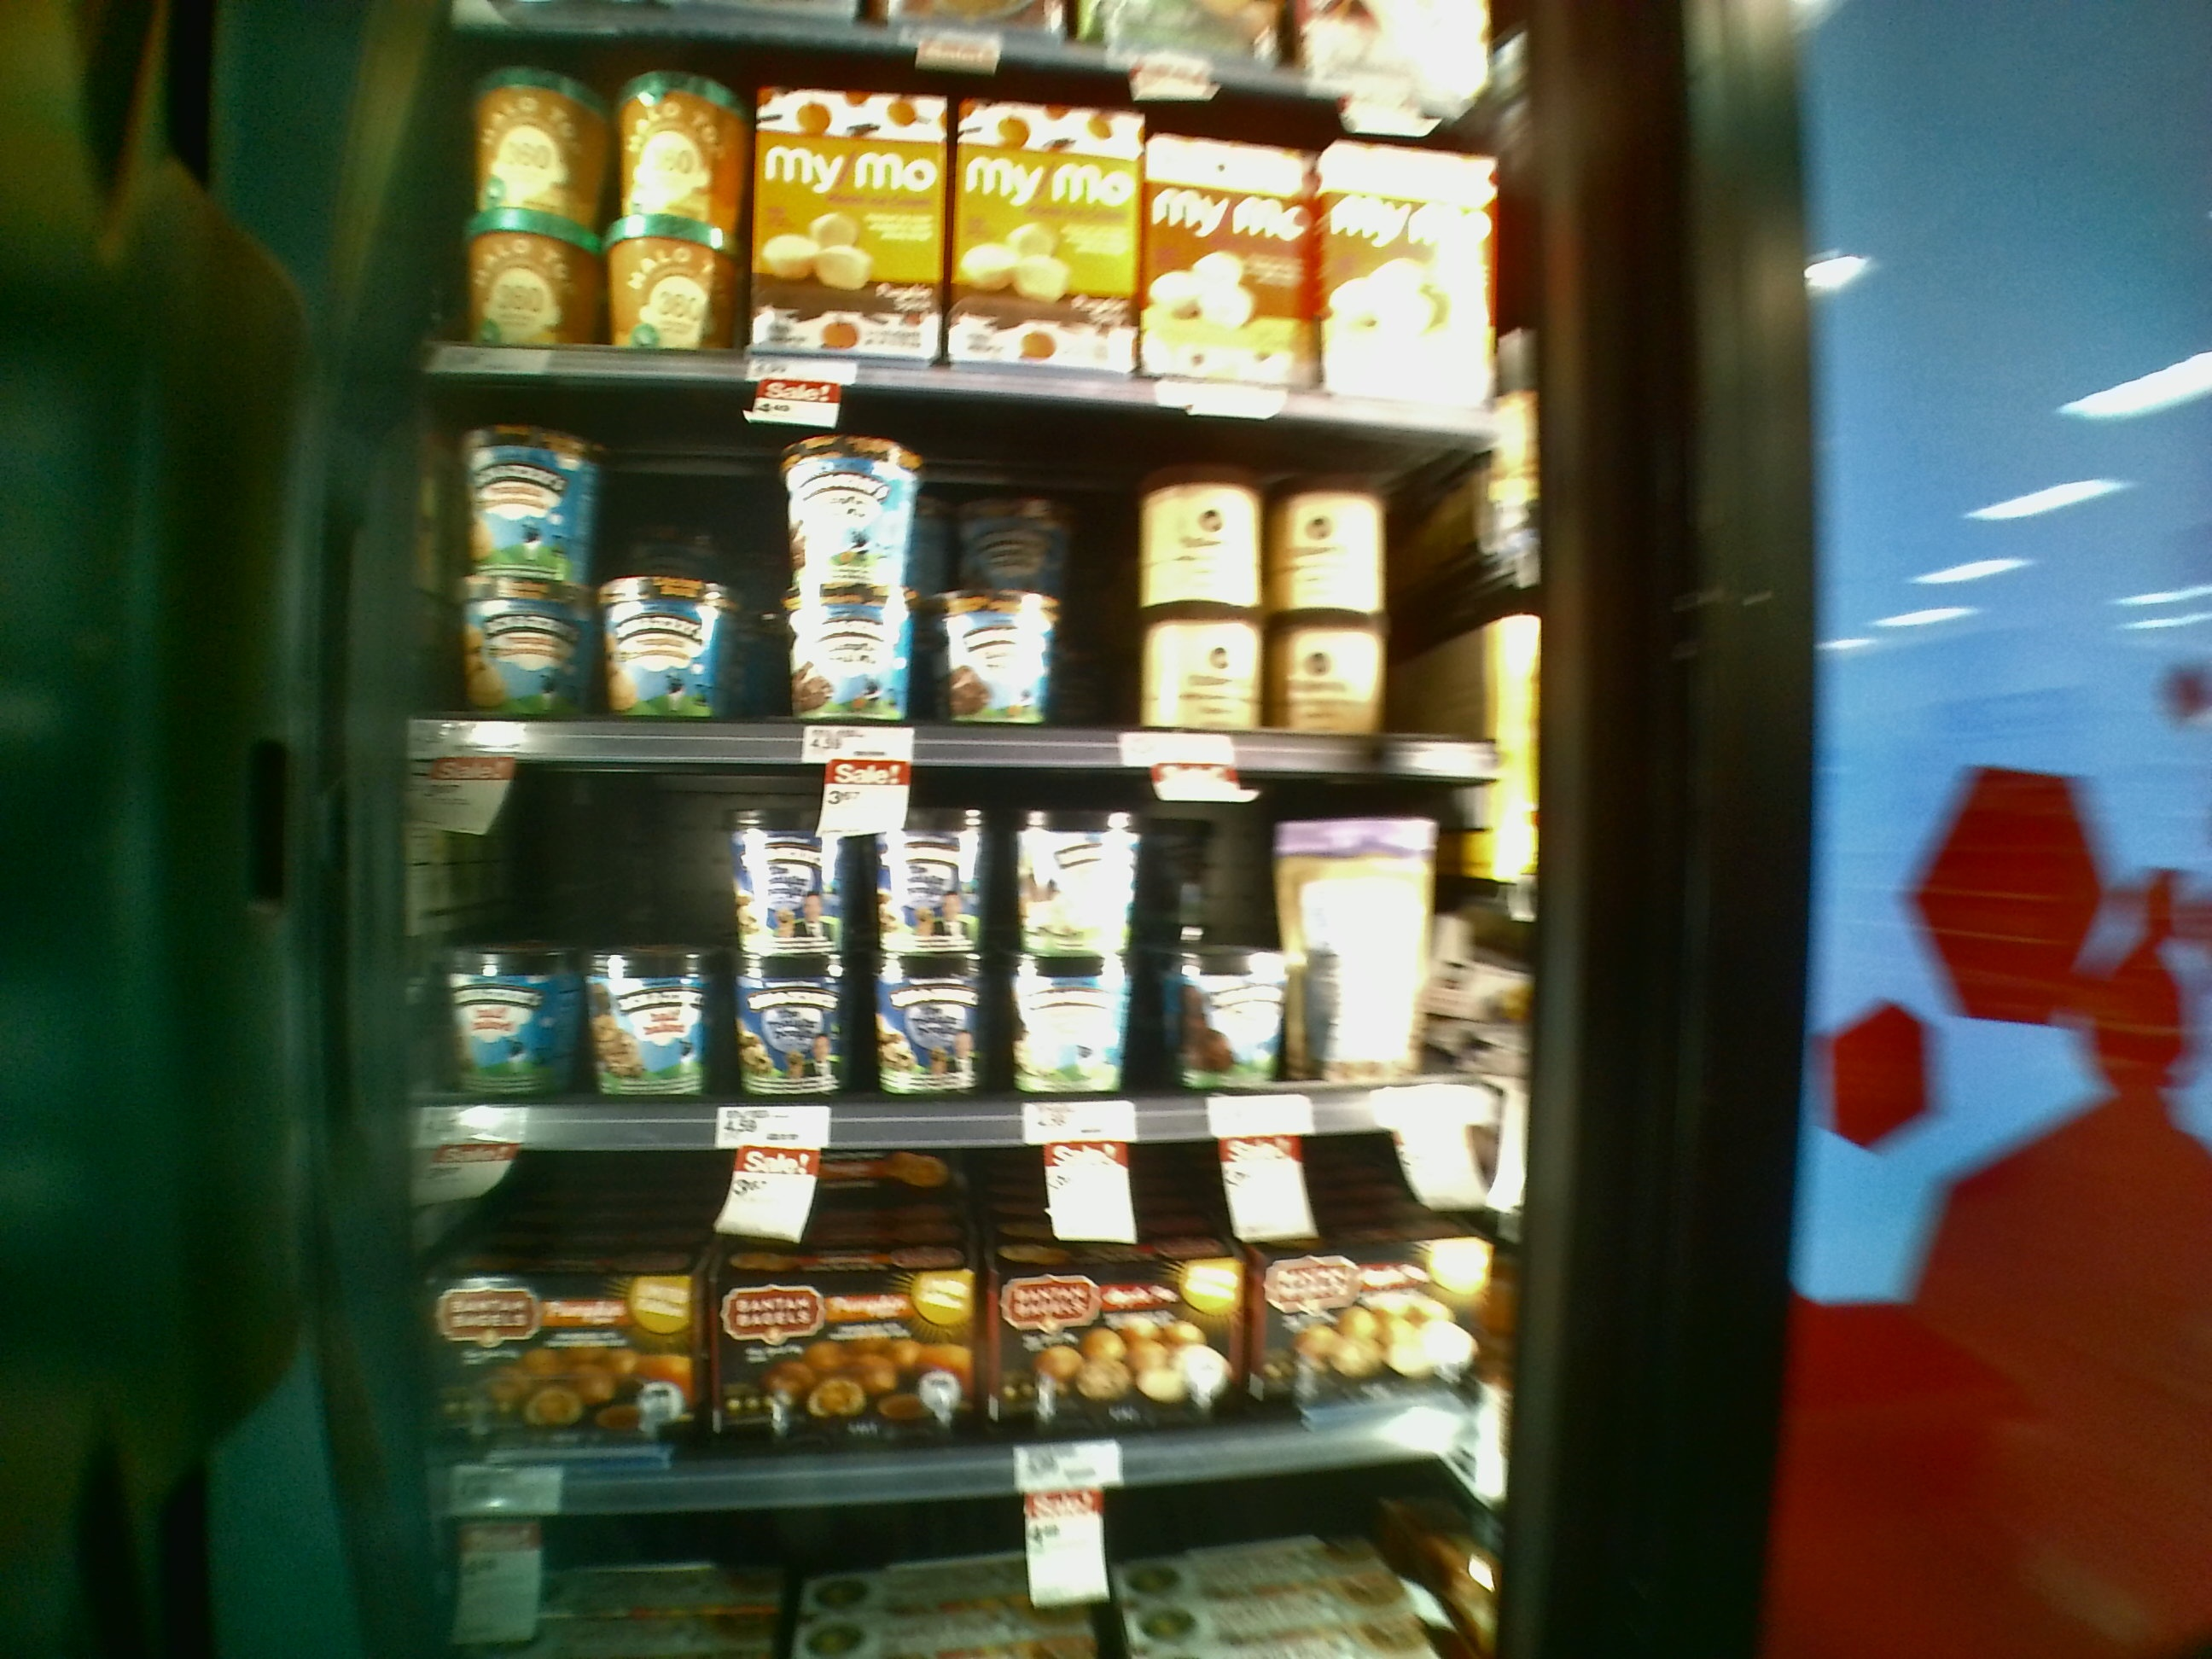shelf: (402, 362, 1517, 775), (361, 1122, 1522, 1495), (380, 755, 1519, 1122)
